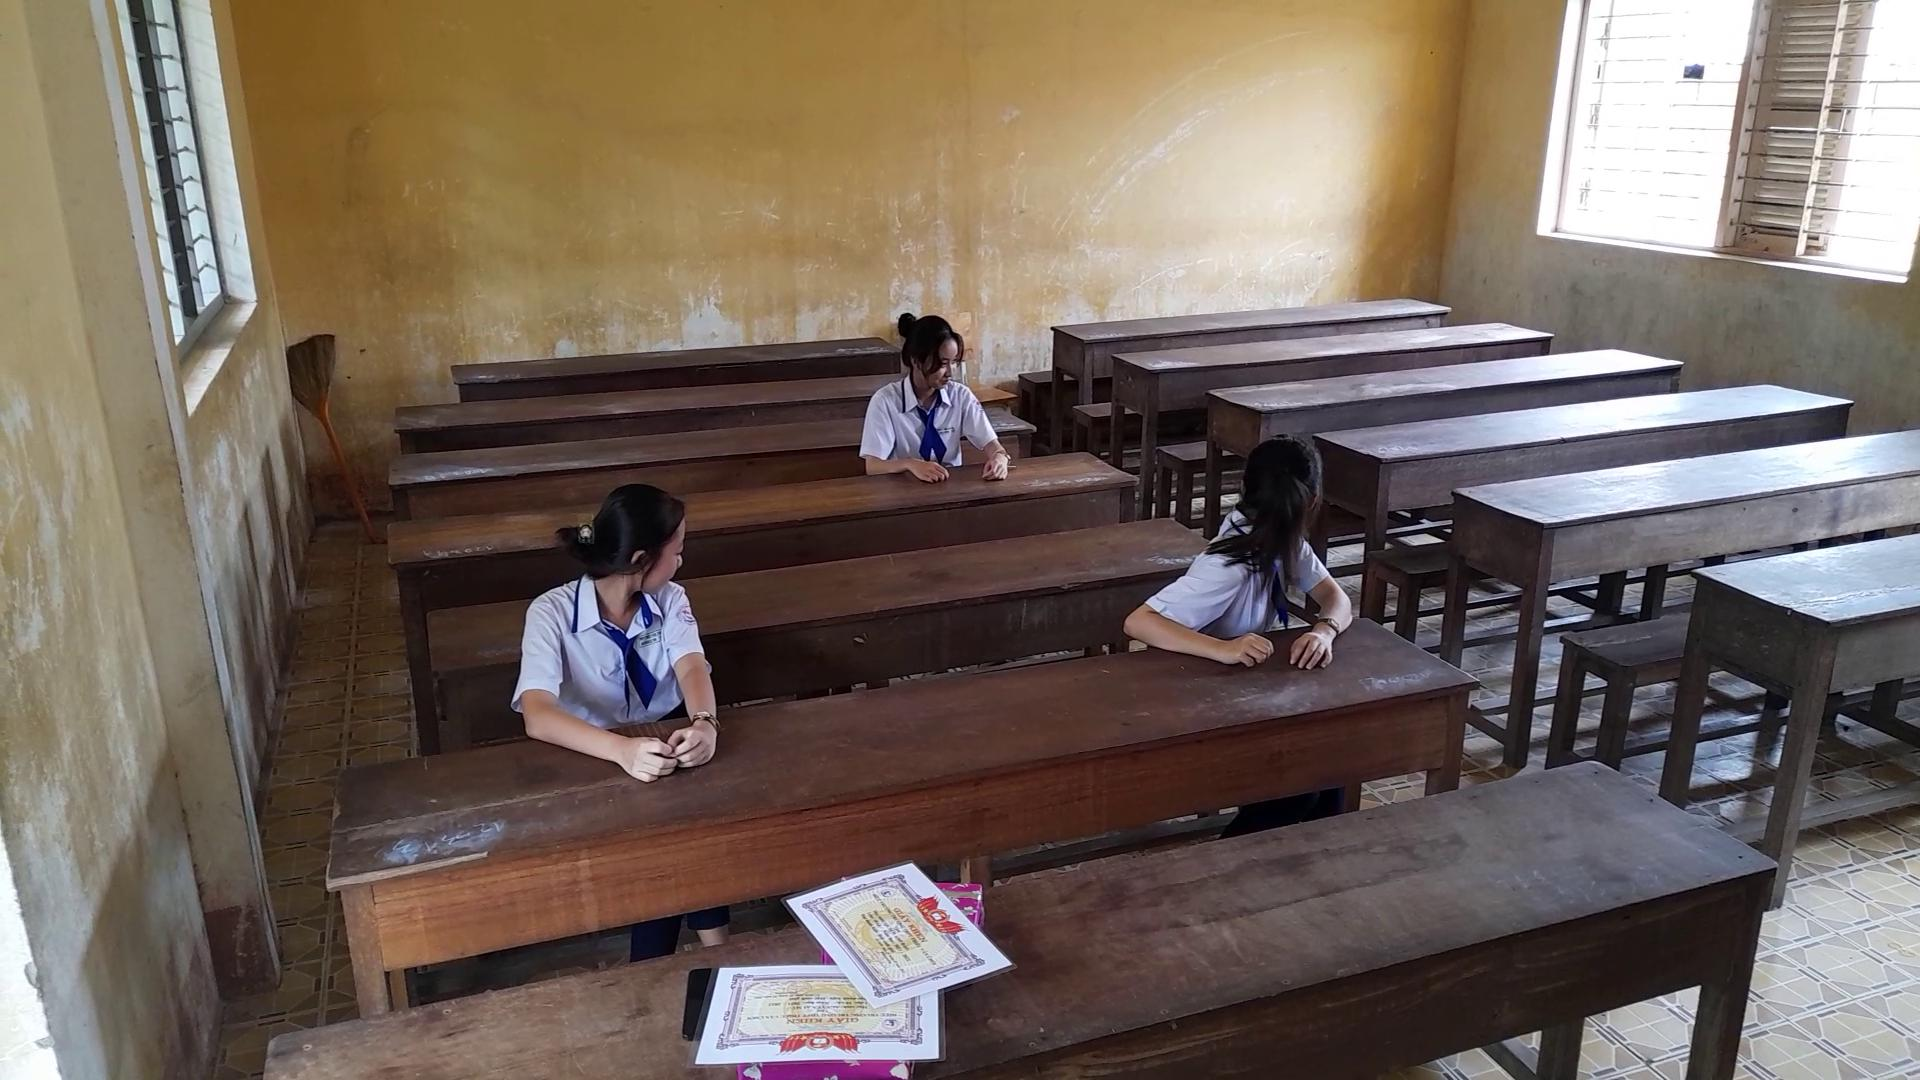Look Around: (1208, 421, 1341, 560), (562, 479, 695, 618), (882, 298, 982, 405)
